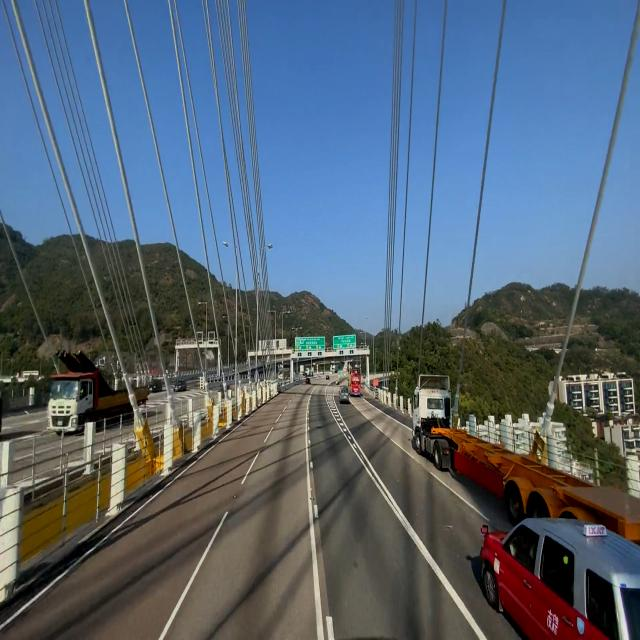Vehicle: (411, 374, 640, 541), (477, 511, 640, 639), (336, 382, 350, 404)
